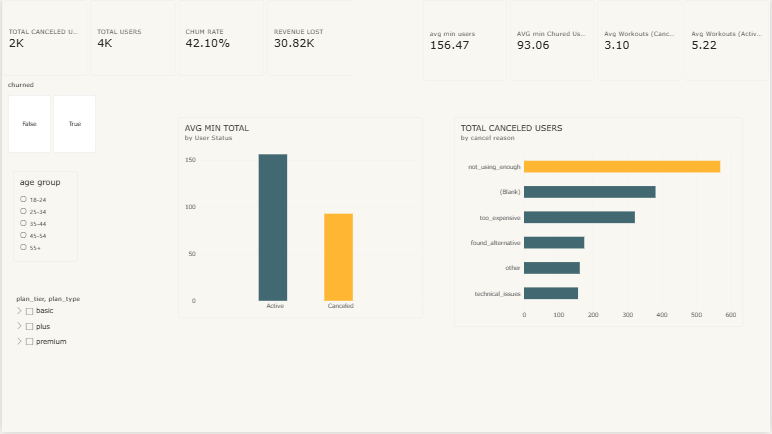

Layout of this report page (visuals, bound fields, positions):
{"tool":"powerbi","page":{"name":"Page 1","canvas":[1920,1080],"ordinal":0},"visuals":[{"type":"cardVisual","fields":{"Data":["subscriptions.total_users_canceled","subscriptions.total_users","subscriptions.percent_cancelation","subscriptions.revenue_lost"]},"box":[0,0,877.5,190],"z":0},{"type":"advancedSlicerVisual","fields":{"Values":["subscriptions.churned"]},"box":[15,202.5,220.7,179.3],"z":1},{"type":"barChart","fields":{"Category":["subscriptions.cancel_reason"],"Y":["subscriptions.total_users_canceled"]},"box":[1130,292.5,722.5,525],"z":2},{"type":"slicer","fields":{"Values":["subscriptions.plan_tier","subscriptions.plan_type"]},"box":[27.5,737.5,196.5,161.3],"z":3},{"type":"listSlicer","fields":{"Values":["subscriptions.age_group"]},"box":[27.5,427.5,162.1,225.9],"z":4},{"type":"clusteredColumnChart","fields":{"Y":["subscriptions.avg_min_total"],"Category":["subscriptions.User Status"]},"box":[440,292.5,612.5,502.5],"z":5},{"type":"cardVisual","fields":{"Data":["subscriptions.avg_min_users","subscriptions.avg_min_chured_users","subscriptions.Avg Workouts (Canceled)","subscriptions.Avg Workouts (Active)"]},"box":[1052.5,0,867.5,202.5],"z":6}]}

Visuals, with their boxes in screenshot pixels (x1, y1, x2, y2), scaled from the page's 1920x1080 canvas onto the 772x434 screenshot:
cardVisual - subscriptions.total_users_canceled x subscriptions.total_users: locate(0, 0, 353, 76)
advancedSlicerVisual - subscriptions.churned: locate(6, 81, 95, 153)
barChart - subscriptions.cancel_reason x subscriptions.total_users_canceled: locate(454, 118, 745, 329)
slicer - subscriptions.plan_tier x subscriptions.plan_type: locate(11, 296, 90, 361)
listSlicer - subscriptions.age_group: locate(11, 172, 76, 263)
clusteredColumnChart - subscriptions.avg_min_total x subscriptions.User Status: locate(177, 118, 423, 319)
cardVisual - subscriptions.avg_min_users x subscriptions.avg_min_chured_users: locate(423, 0, 771, 81)
